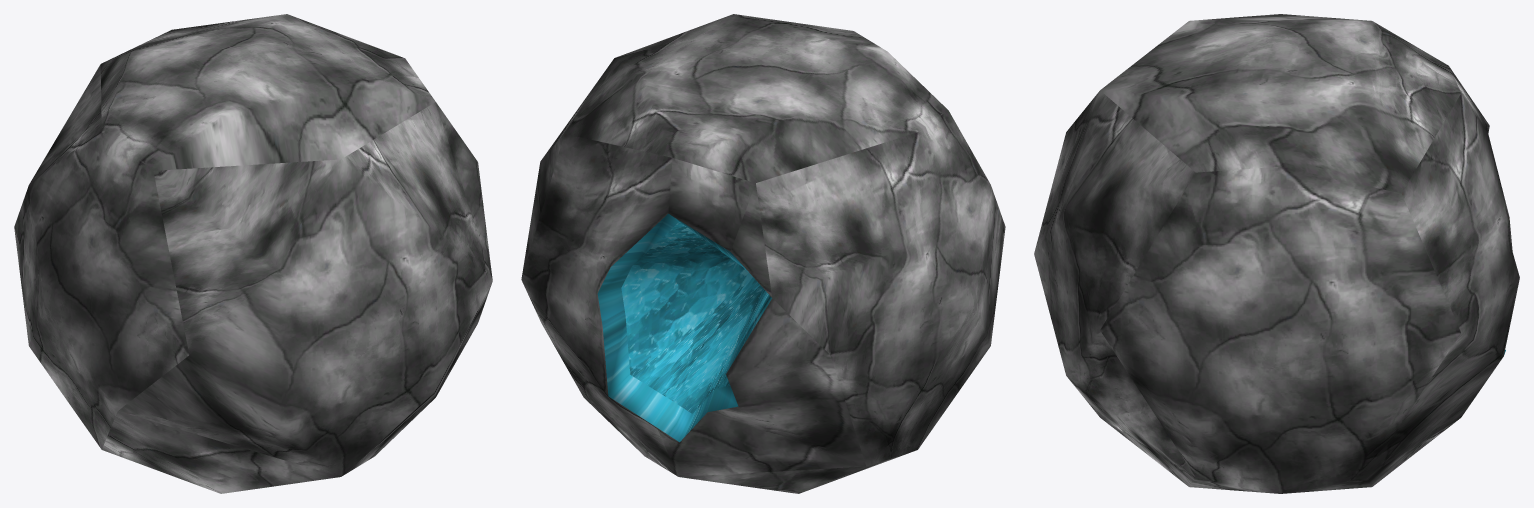
Rendered from INST_TROLLHOLE_GEODE.fbx.
The picture shows the model from 3 angles, left to right: view 1: azimuth 30°, elevation 25°; view 2: azimuth 150°, elevation 25°; view 3: azimuth 270°, elevation 25°; orthographic projection. The views are drawn at different scales.
Visible parts, largest first — view 1: INST_TROLLHOLE_GEODE; view 2: INST_TROLLHOLE_GEODE; view 3: INST_TROLLHOLE_GEODE.
Part boxes in pixels (x1,y1,x2,y2): INST_TROLLHOLE_GEODE: [14, 14, 492, 493]; INST_TROLLHOLE_GEODE: [521, 14, 1005, 493]; INST_TROLLHOLE_GEODE: [1034, 14, 1519, 493].
Size of the model in its own units: 10795 by 10342 by 10634.
2 materials, 2 textured.
